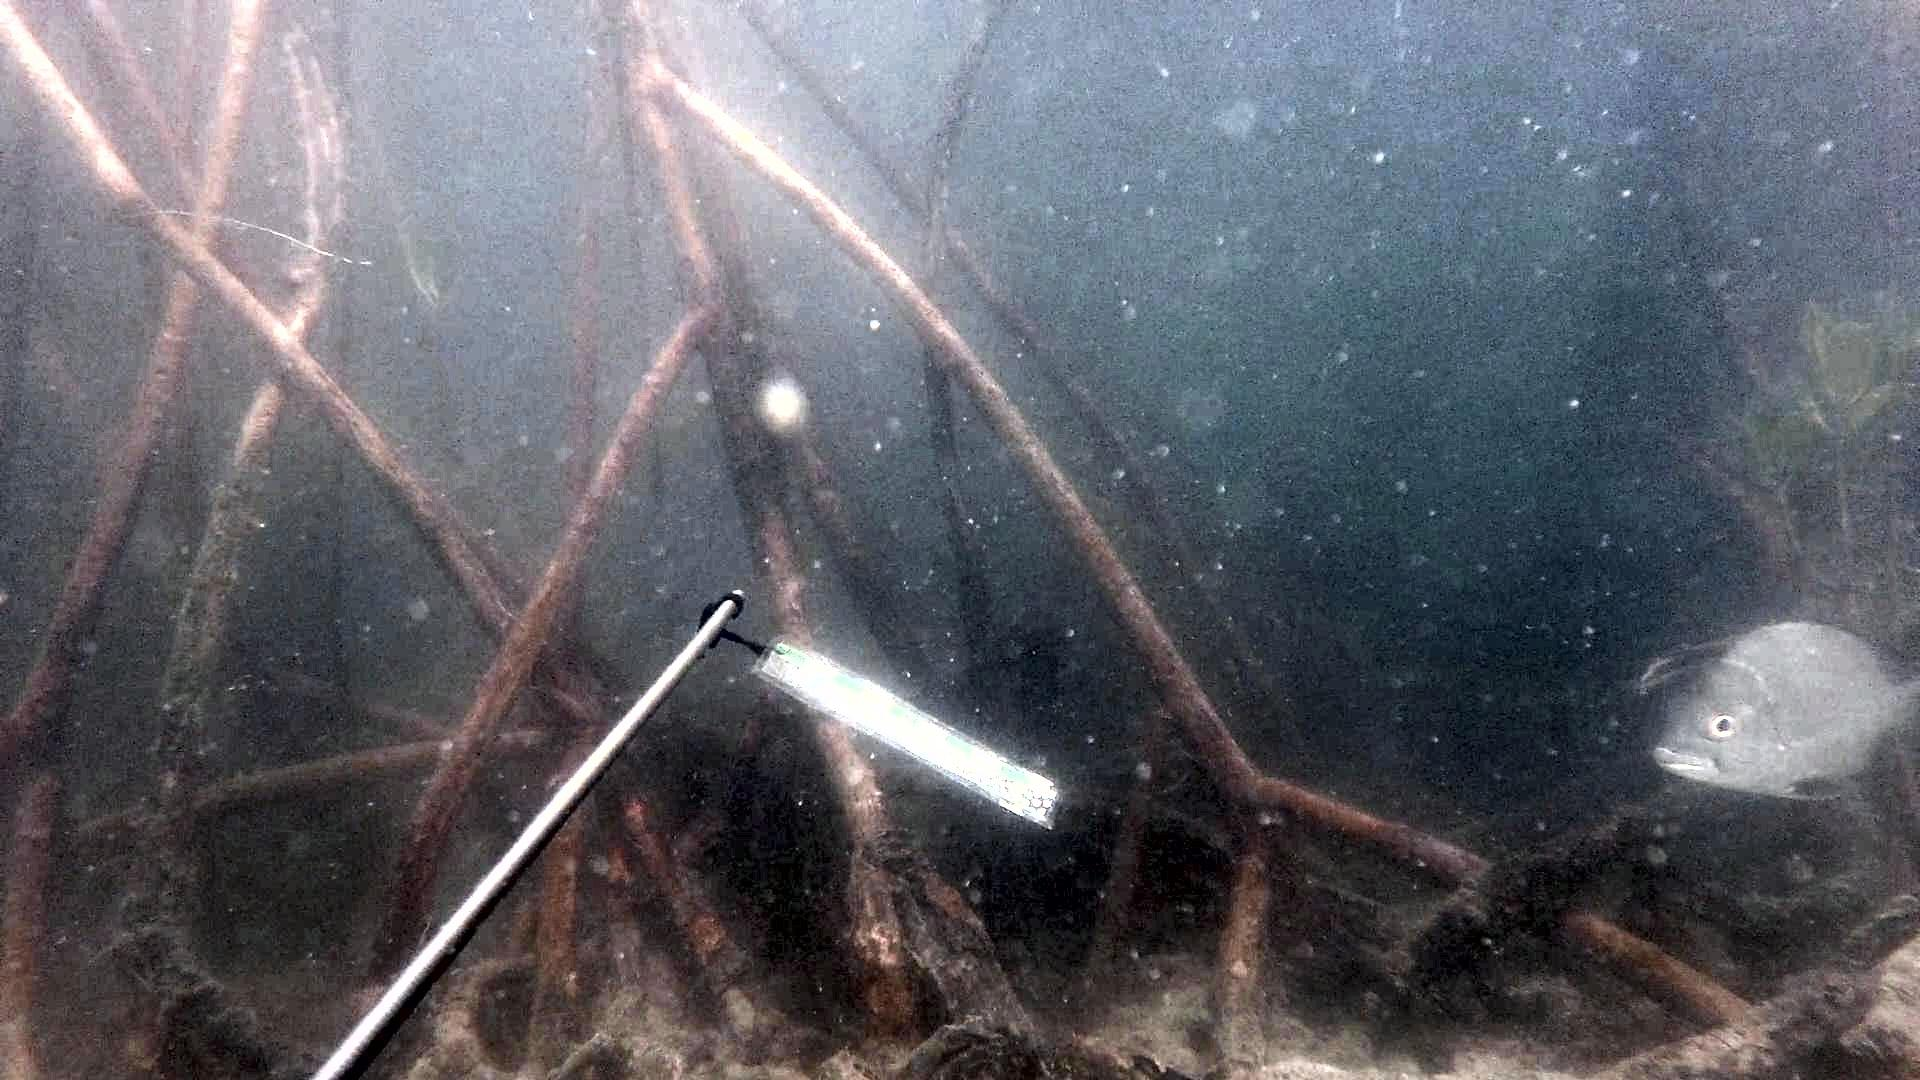acanthopagrus palmaris: (1633, 607, 1920, 819)
